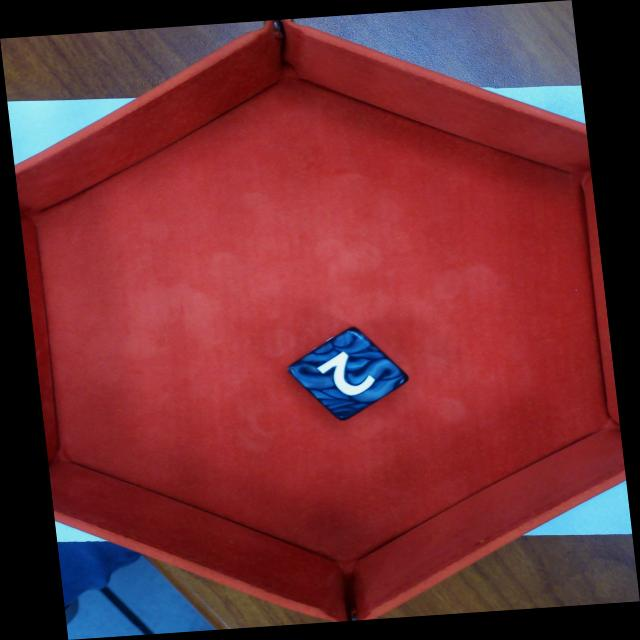dice: (290, 326, 410, 424)
